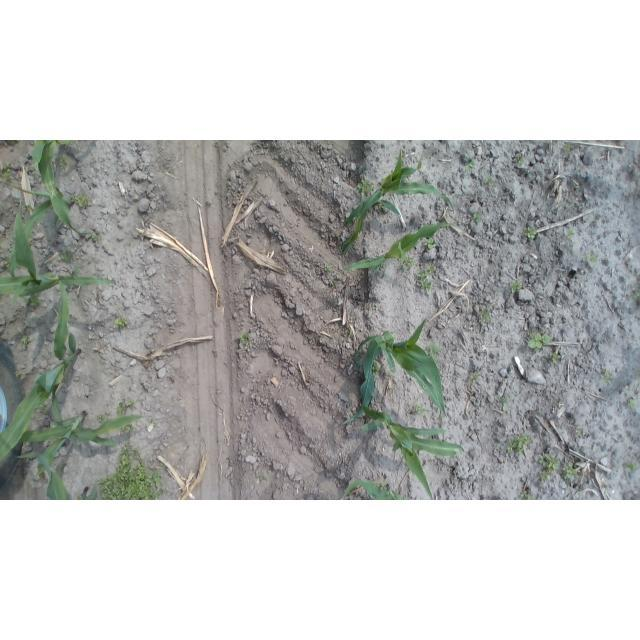Maize: (1, 273, 84, 469), (1, 197, 120, 308), (338, 144, 455, 254), (344, 317, 451, 431), (10, 140, 82, 281), (359, 405, 463, 500), (9, 411, 149, 480), (340, 220, 456, 276), (25, 446, 104, 500), (341, 476, 428, 500)
Weeds: (97, 441, 168, 500), (418, 262, 441, 293), (537, 454, 559, 485), (558, 459, 578, 487), (506, 432, 531, 454), (526, 331, 551, 350), (232, 330, 254, 351), (423, 341, 443, 364), (116, 399, 140, 417), (71, 192, 92, 211), (357, 176, 374, 197), (58, 245, 75, 264), (522, 225, 539, 243), (0, 162, 14, 183), (478, 306, 493, 325), (515, 488, 538, 500), (113, 315, 131, 330), (55, 153, 70, 170), (628, 286, 640, 307), (498, 395, 511, 414), (548, 352, 565, 366), (23, 296, 44, 307), (411, 404, 430, 416), (582, 253, 599, 266), (512, 153, 527, 167), (600, 369, 614, 384), (623, 459, 637, 474), (424, 236, 436, 253), (462, 160, 477, 173), (400, 257, 416, 269), (96, 411, 109, 425), (470, 211, 483, 225), (510, 280, 523, 294), (119, 425, 136, 435), (561, 142, 574, 154), (371, 360, 380, 377), (482, 175, 495, 186), (380, 479, 393, 490), (20, 336, 31, 348), (627, 399, 637, 412), (565, 228, 575, 240), (327, 278, 337, 290), (554, 399, 566, 409), (324, 263, 333, 276), (343, 325, 354, 335), (469, 372, 480, 382), (40, 400, 48, 413), (257, 473, 267, 483), (16, 368, 25, 378), (90, 235, 101, 242), (633, 369, 640, 380), (577, 427, 584, 438), (370, 303, 378, 312)
